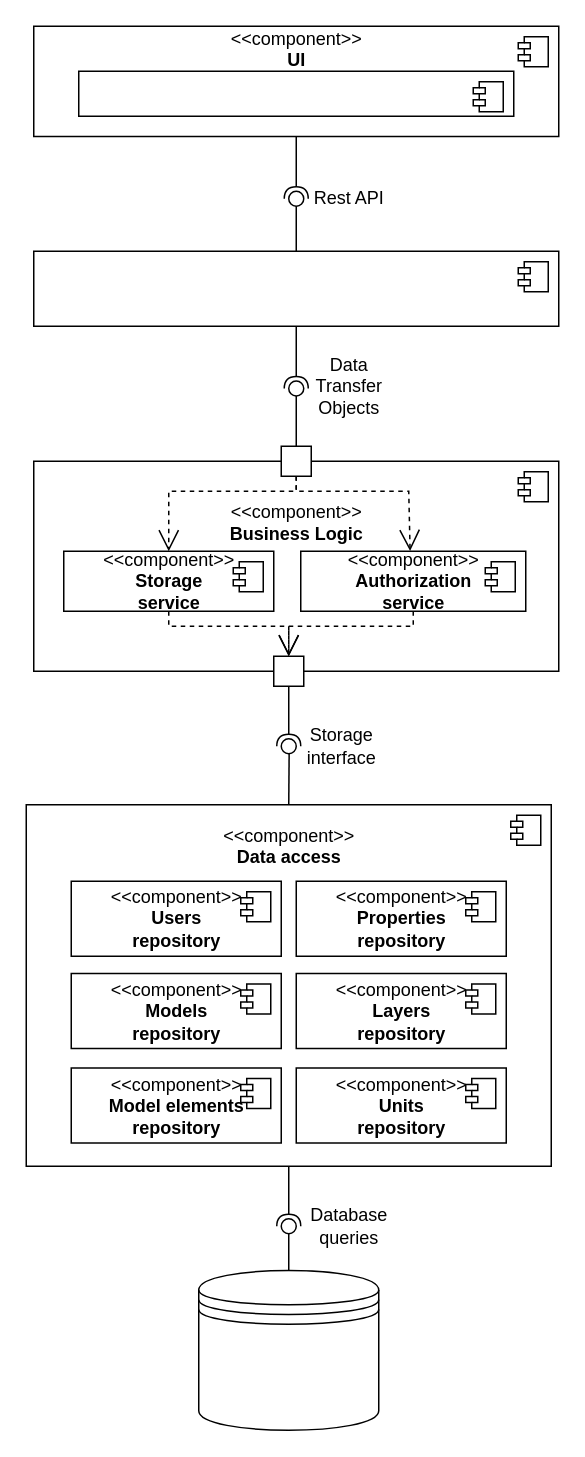
Some shapes in this 585 by 1457 pixel diagram are drawn without their labels. The shapes that lost their labels are listed below. From the top down, each one's centre as x and y in pixels, then its label:
At [295,93]: "<<component>> Swagger UI".
At [295,288]: "<<component>> Web server".
At [288,1349]: "Database".
